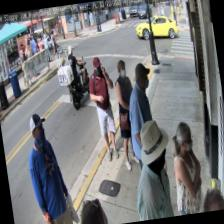person: (120, 60, 169, 210), (21, 110, 75, 224), (125, 117, 179, 220), (84, 54, 124, 162), (165, 120, 207, 215), (110, 57, 144, 170)
